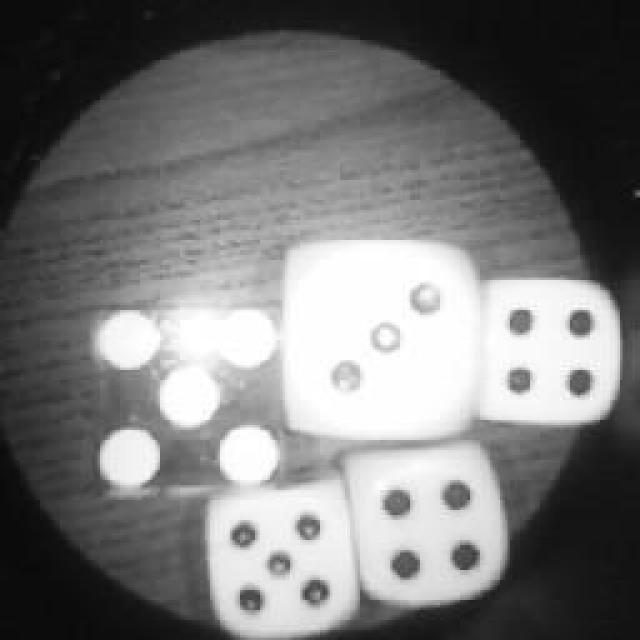dice_3: (273, 232, 485, 450)
dice_4: (340, 435, 515, 613), (473, 268, 625, 438)
dice_5: (82, 293, 298, 505), (199, 467, 362, 640)
